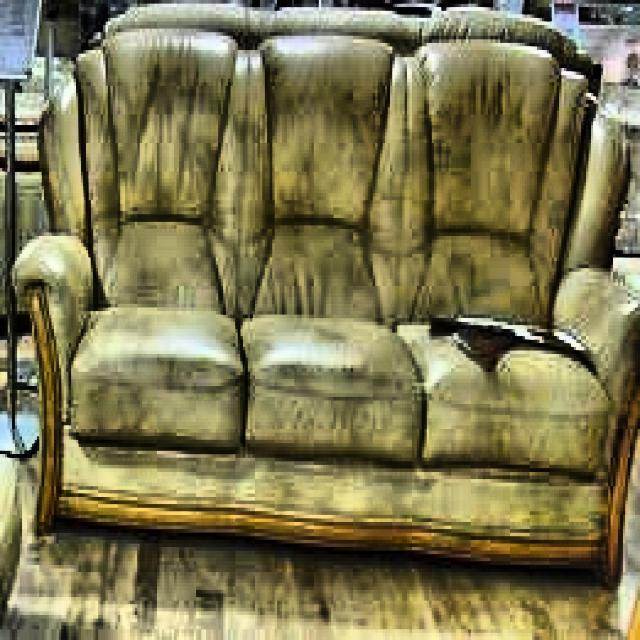sofa: (10, 4, 640, 594)
